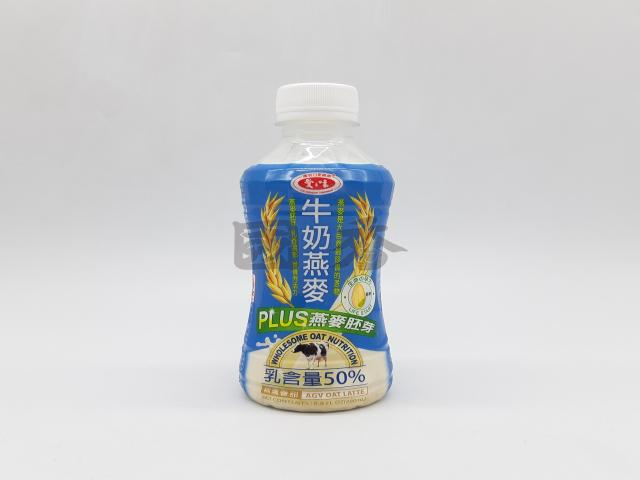bottle: (240, 83, 394, 412)
